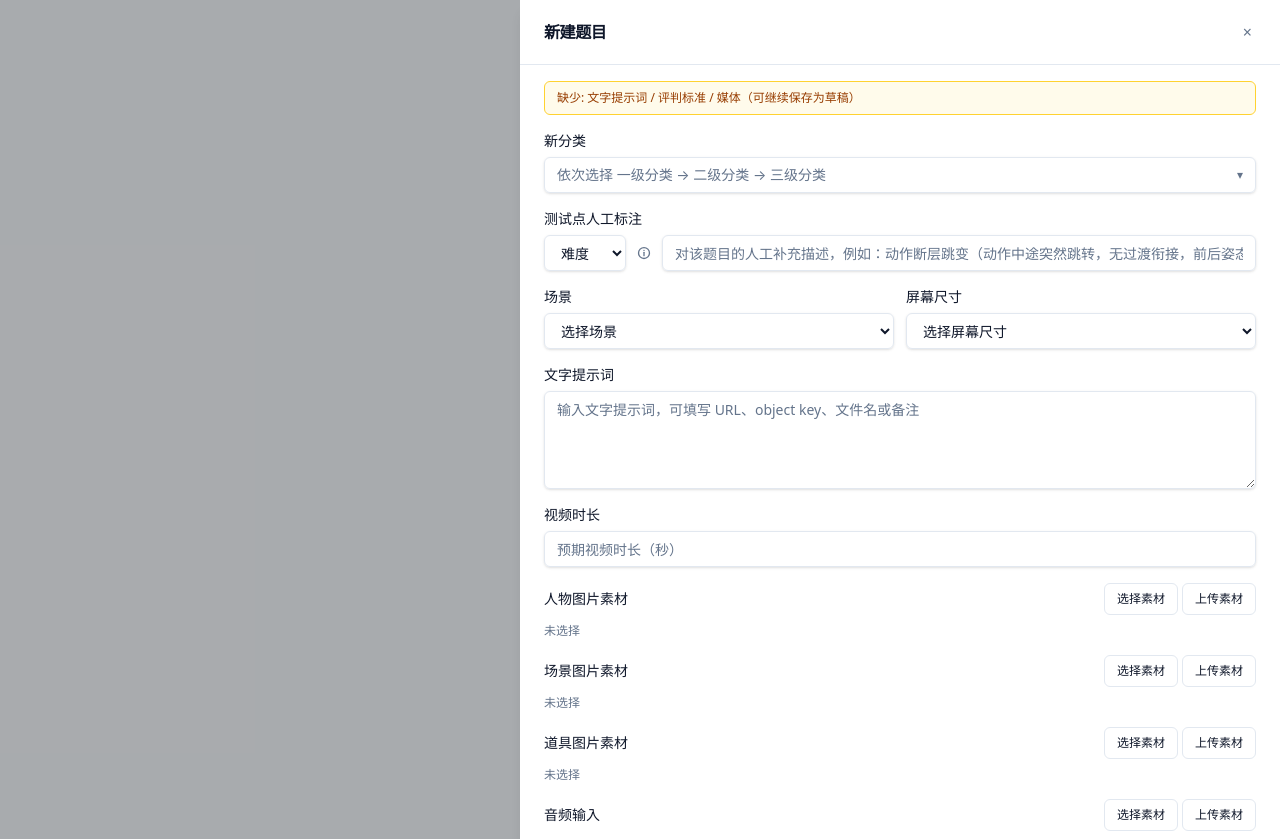
Scenario: BenchmarkDrawer › cascades l1 → l2 → l3 via the shared Cascader and fills the definition
Click the button with aria-label "新分类".
click(691, 174)  # box left=544, top=157, right=1256, bottom=193
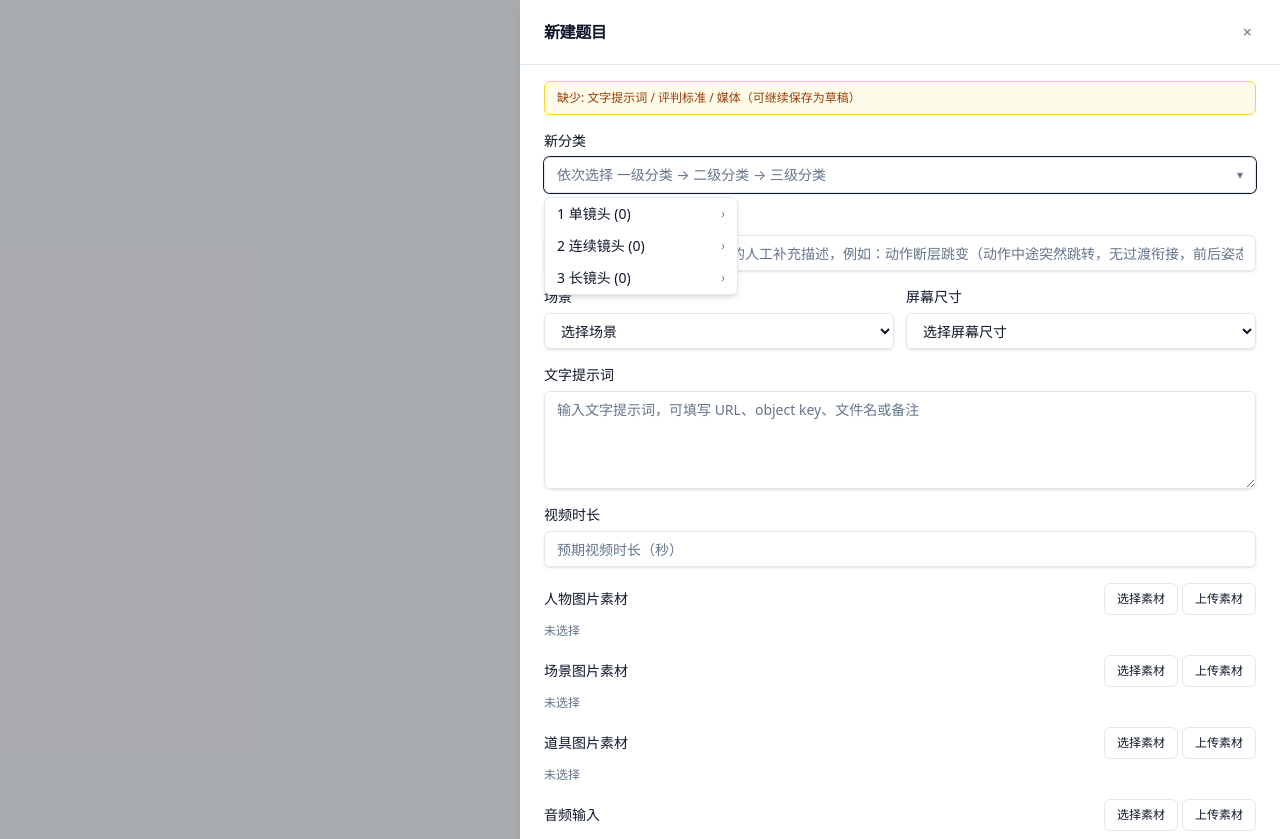
Click the option "1 单镜头 (0) ›".
click(641, 214)  # box left=545, top=198, right=737, bottom=230
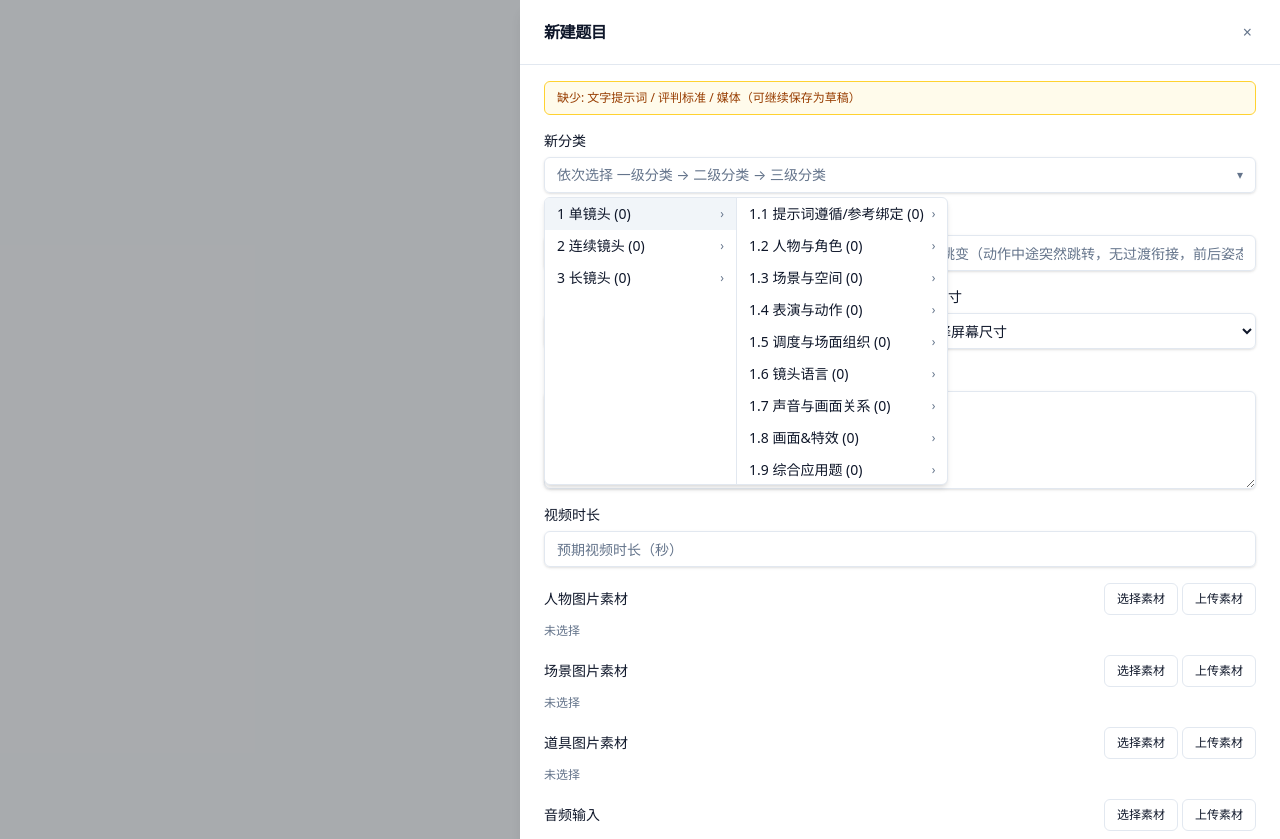
Click the option "1.1 提示词遵循/参考绑定 (0) ›".
click(842, 214)  # box left=737, top=198, right=947, bottom=230
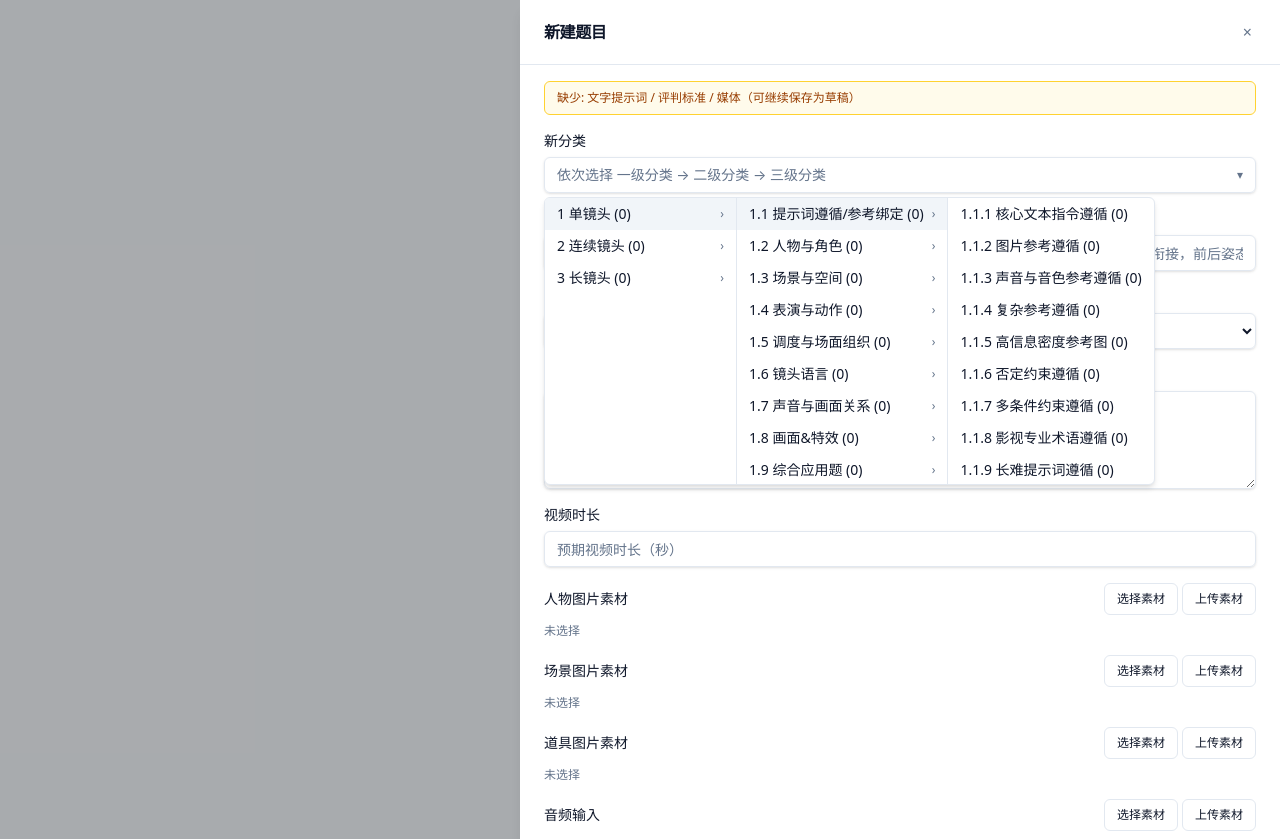
Click the option "1.1.1 核心文本指令遵循 (0)".
click(1051, 214)  # box left=948, top=198, right=1154, bottom=230
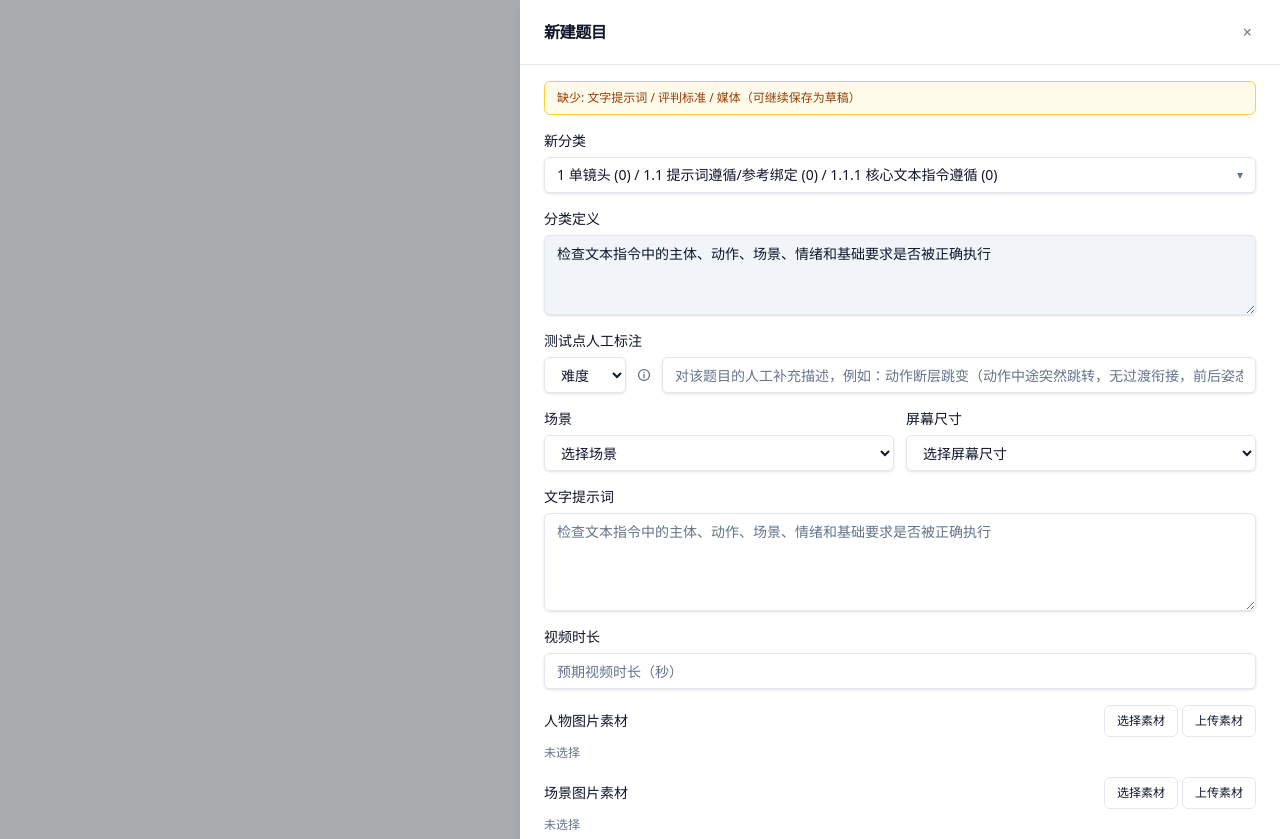
Result: the text box "检查文本指令中的主体、动作、场景、情绪和基础要求是否被正确执行" is shown at left=544, top=235, right=1256, bottom=315
